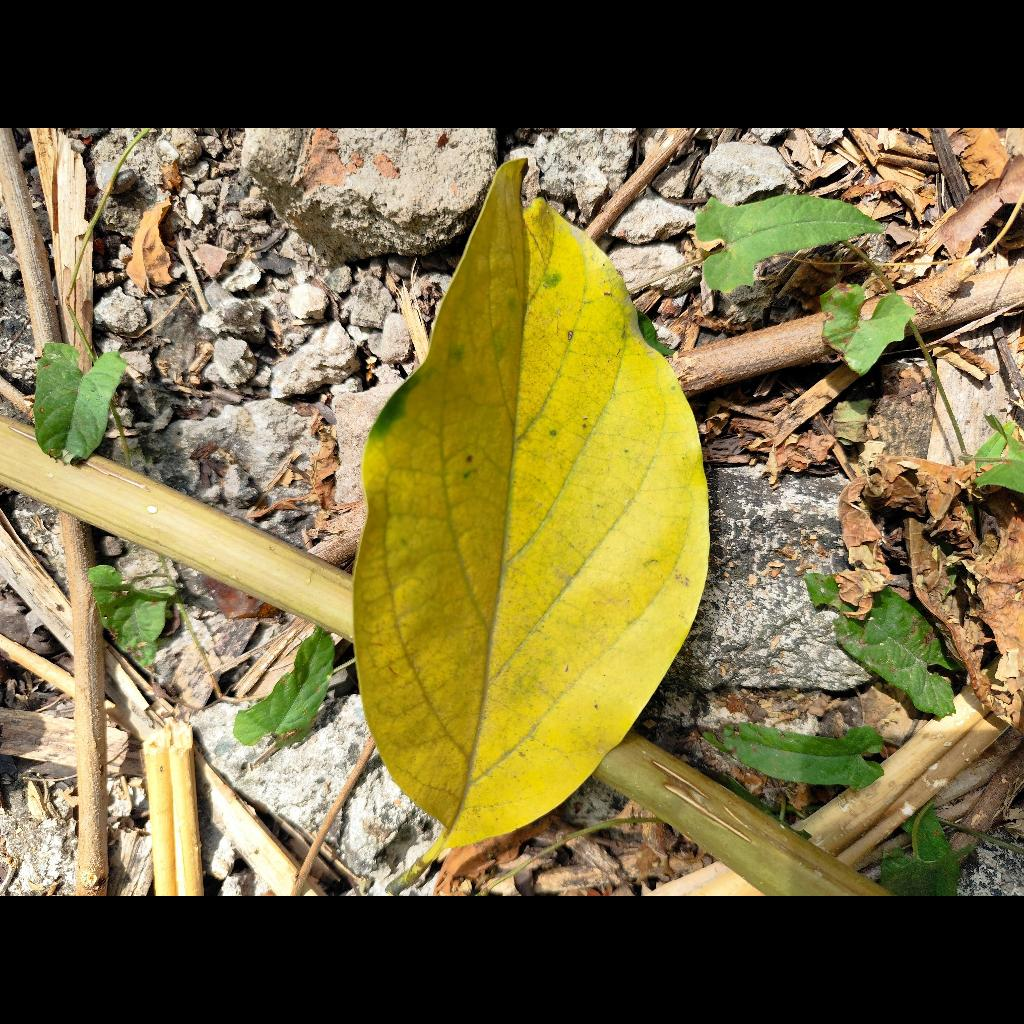nutrient_deficiency: (353, 162, 709, 846)
